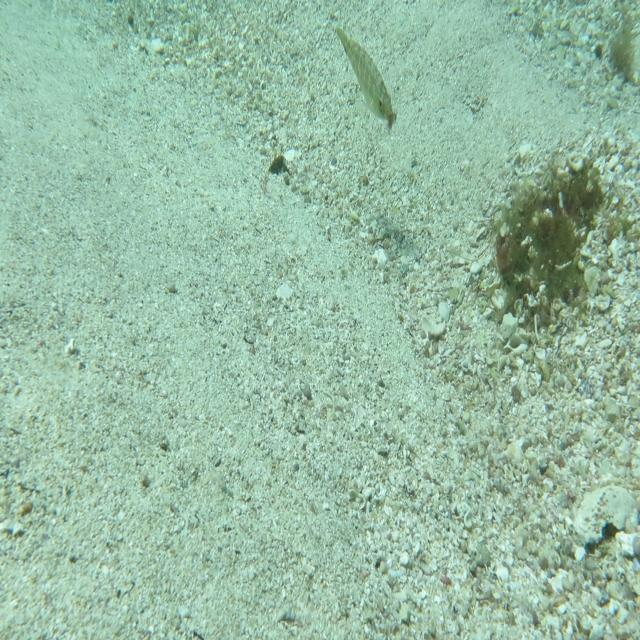AM: (332, 25, 395, 122)
core_nest: (558, 169, 593, 204)
nest: (495, 153, 611, 340)
nest_material: (386, 111, 398, 132)
vegetation: (607, 18, 638, 86), (268, 153, 289, 180)
